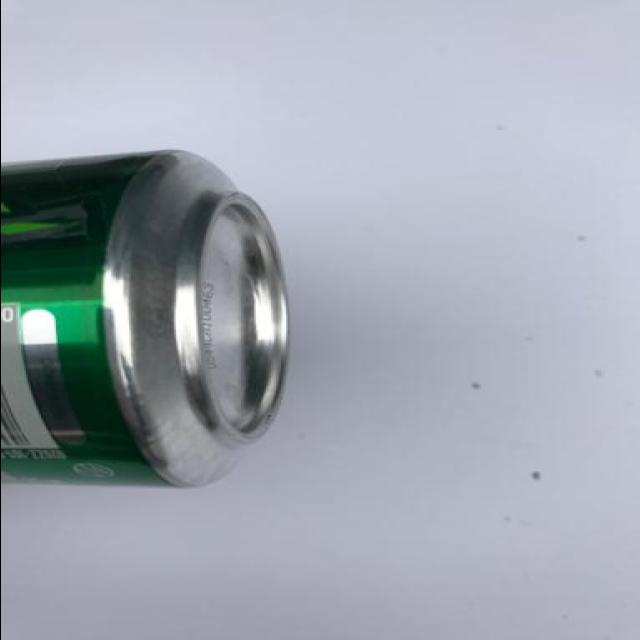Aluminum Can: (0, 142, 310, 512)
